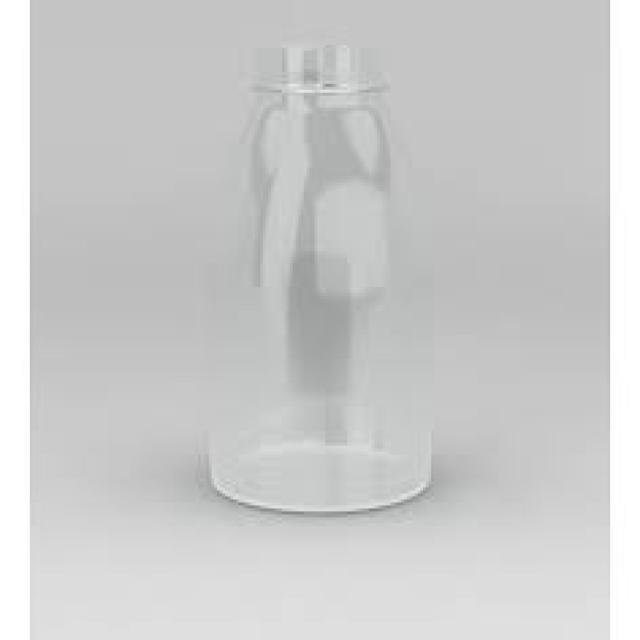glass: (204, 42, 432, 508)
